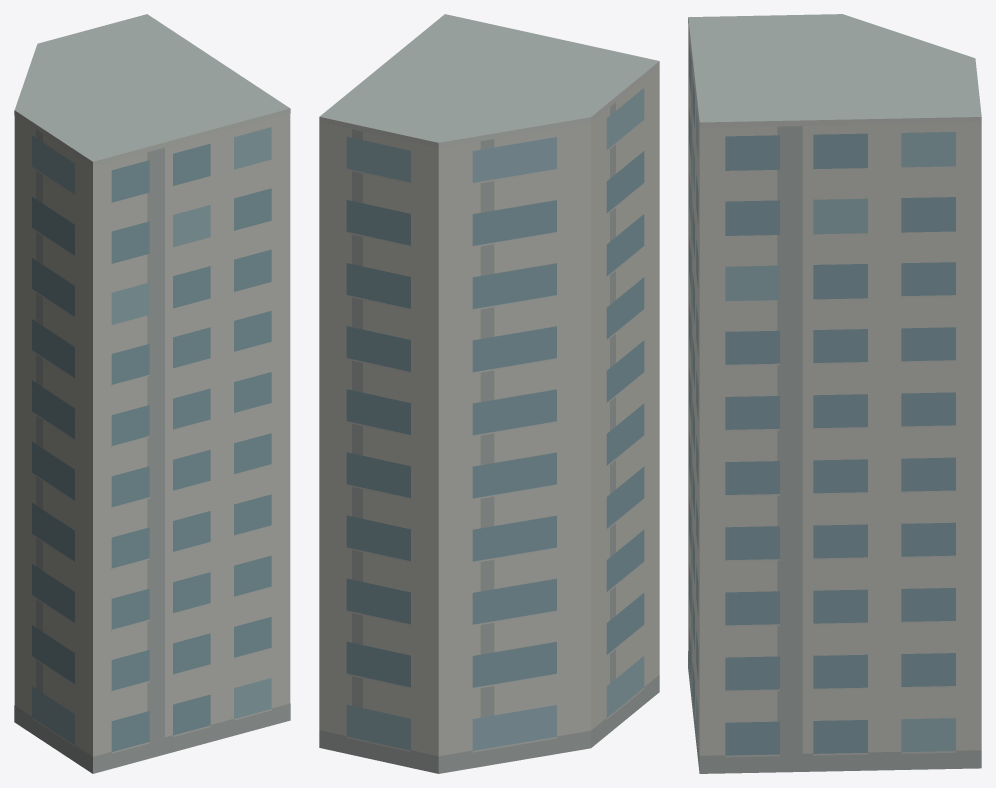
Rendered from residential-bb4e7ccf-1bba-4f37-bae7-e19d83f419c3.glb.
3 views of the same model, side by side, from view 1: azimuth 30°, elevation 25°; view 2: azimuth 150°, elevation 25°; view 3: azimuth 270°, elevation 25° (orthographic). The views are drawn at different scales.
Visible parts, largest first — view 1: residential-bb4e7ccf-1bba-4f37-bae7-e19d83f419c3.tmp; view 2: residential-bb4e7ccf-1bba-4f37-bae7-e19d83f419c3.tmp; view 3: residential-bb4e7ccf-1bba-4f37-bae7-e19d83f419c3.tmp.
Boxes of the visible parts, left/top/right/bottom form: residential-bb4e7ccf-1bba-4f37-bae7-e19d83f419c3.tmp: left=14, top=14, right=290, bottom=773; residential-bb4e7ccf-1bba-4f37-bae7-e19d83f419c3.tmp: left=319, top=14, right=659, bottom=773; residential-bb4e7ccf-1bba-4f37-bae7-e19d83f419c3.tmp: left=688, top=14, right=981, bottom=773.
Size of the model in its own units: 10 by 28 by 11.44.
